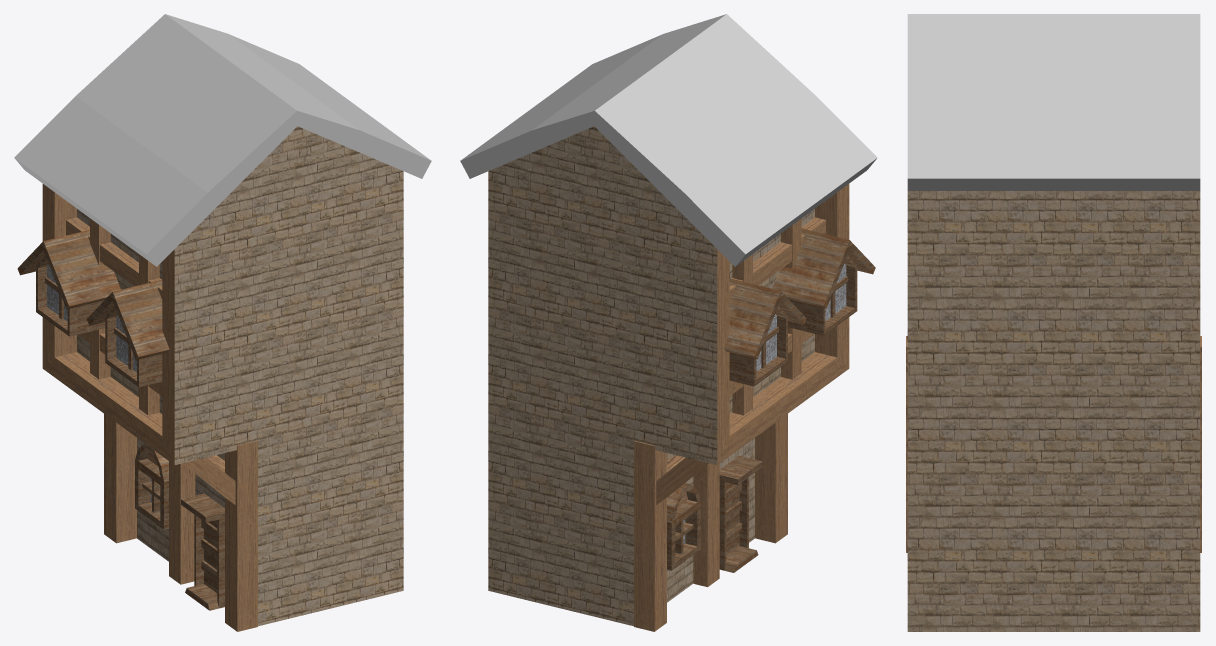
The model's file is townhouse2_combined.fbx.
3 views of the same model, side by side, from view 1: azimuth 30°, elevation 25°; view 2: azimuth 150°, elevation 25°; view 3: azimuth 270°, elevation 25° (orthographic). The views are drawn at different scales.
Parts seen in each view (by area): view 1: pCube15; view 2: pCube15; view 3: pCube15.
Boxes of the visible parts, box(x1,y1,x2,y2) form: pCube15: box(14, 14, 431, 631); pCube15: box(460, 14, 877, 631); pCube15: box(906, 14, 1201, 631).
Size of the model in its own units: 37.79 by 63.36 by 30.3.
